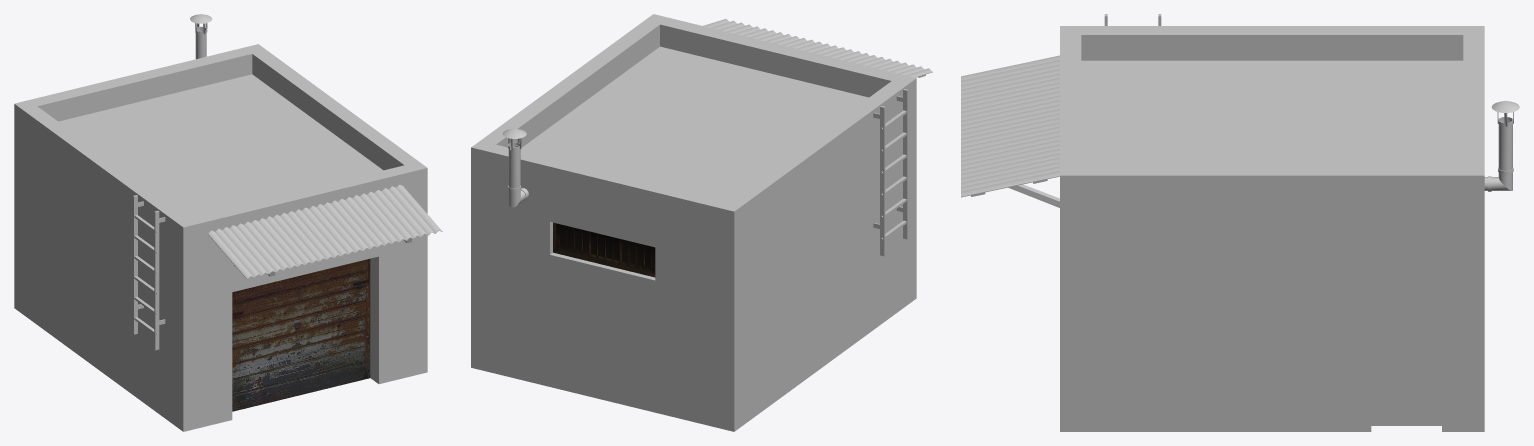
The model's file is garage_hm_2.fbx.
3 views of the same model, side by side, from view 1: azimuth 30°, elevation 25°; view 2: azimuth 150°, elevation 25°; view 3: azimuth 270°, elevation 25° (orthographic). The views are drawn at different scales.
Visible parts, largest first — view 1: garage_hm_2; view 2: garage_hm_2; view 3: garage_hm_2.
Part boxes in pixels (left/top/right/bottom): garage_hm_2: left=14, top=14, right=442, bottom=431; garage_hm_2: left=471, top=14, right=932, bottom=431; garage_hm_2: left=961, top=14, right=1519, bottom=431.
Size of the model in its own units: 5.22 by 7.9 by 4.7.
